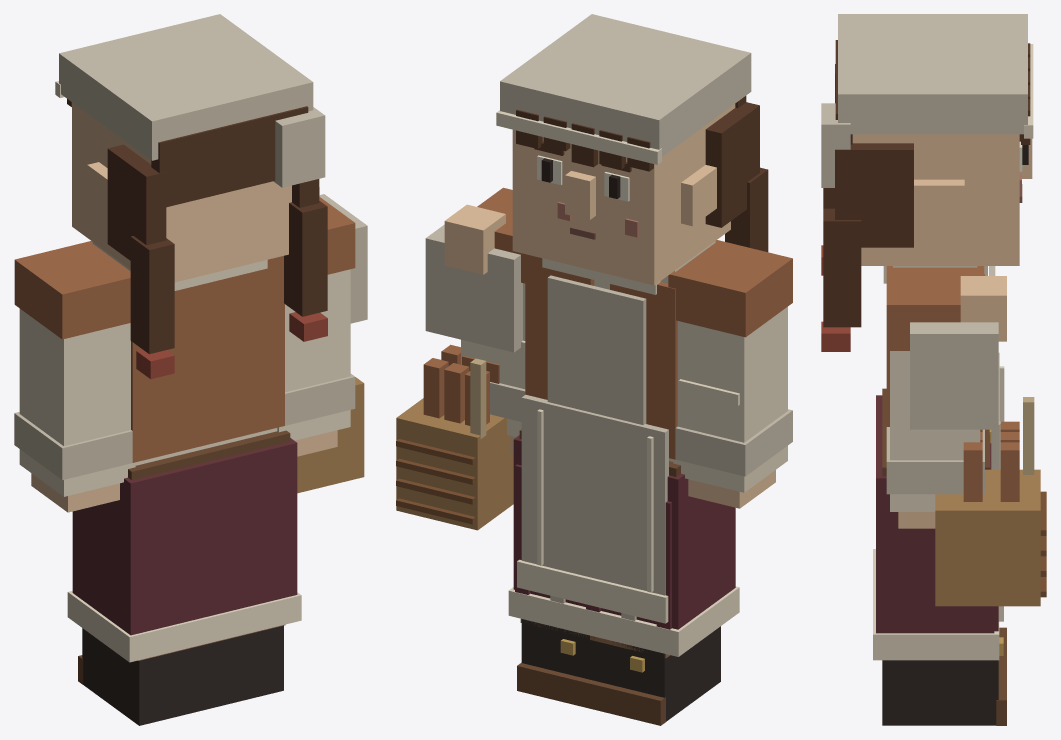
File: mother.obj
3 renders of one model, left to right at view 1: azimuth 30°, elevation 25°; view 2: azimuth 150°, elevation 25°; view 3: azimuth 270°, elevation 25°, orthographic. The views are drawn at different scales.
Visible parts, largest first — view 1: head, body, right_arm, left_arm, right_leg, equipment_left, left_leg; view 2: body, head, equipment_left, right_arm, right_leg, left_leg, left_arm; view 3: head, equipment_left, body, left_arm, left_leg.
Boxes of the visible parts, x1,y1,x2,y2 form: head: [55, 14, 327, 379]; body: [67, 242, 301, 662]; right_arm: [14, 241, 135, 512]; left_arm: [277, 197, 355, 456]; right_leg: [78, 628, 214, 725]; equipment_left: [297, 187, 367, 493]; left_leg: [209, 624, 285, 708]; body: [508, 241, 739, 656]; head: [496, 14, 768, 285]; equipment_left: [396, 204, 522, 530]; right_arm: [668, 240, 792, 508]; right_leg: [586, 626, 720, 725]; left_leg: [517, 618, 595, 708]; left_arm: [461, 187, 525, 453]; head: [821, 14, 1033, 351]; equipment_left: [910, 276, 1046, 606]; body: [873, 266, 1004, 660]; left_arm: [886, 266, 984, 528]; left_leg: [882, 637, 1006, 725].
Size of the model in its own units: 1.14 by 2.08 by 0.6675.
